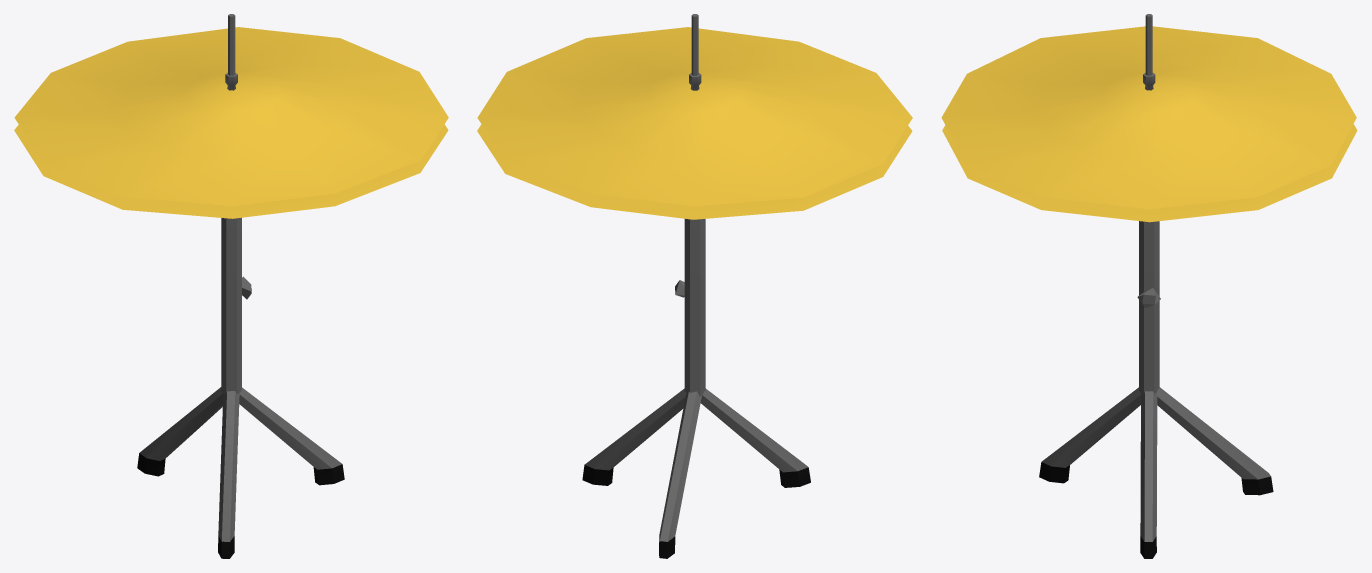
Rendered from Hi-Hat.fbx.
The picture shows the model from 3 angles, left to right: view 1: azimuth 30°, elevation 25°; view 2: azimuth 150°, elevation 25°; view 3: azimuth 270°, elevation 25°; orthographic projection.
Visible parts, largest first — view 1: Hi-Hat; view 2: Hi-Hat; view 3: Hi-Hat.
Boxes of the visible parts, x1,y1,x2,y2 form: Hi-Hat: [14, 14, 448, 558]; Hi-Hat: [477, 14, 912, 558]; Hi-Hat: [941, 14, 1357, 558].
Size of the model in its own units: 63.14 by 78.59 by 60.53.
